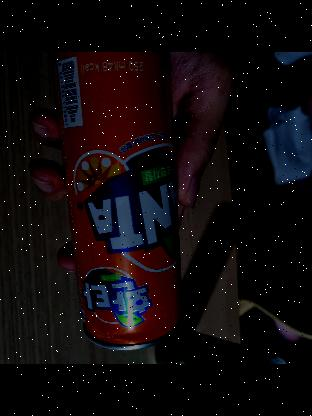Can: (59, 52, 191, 352)
